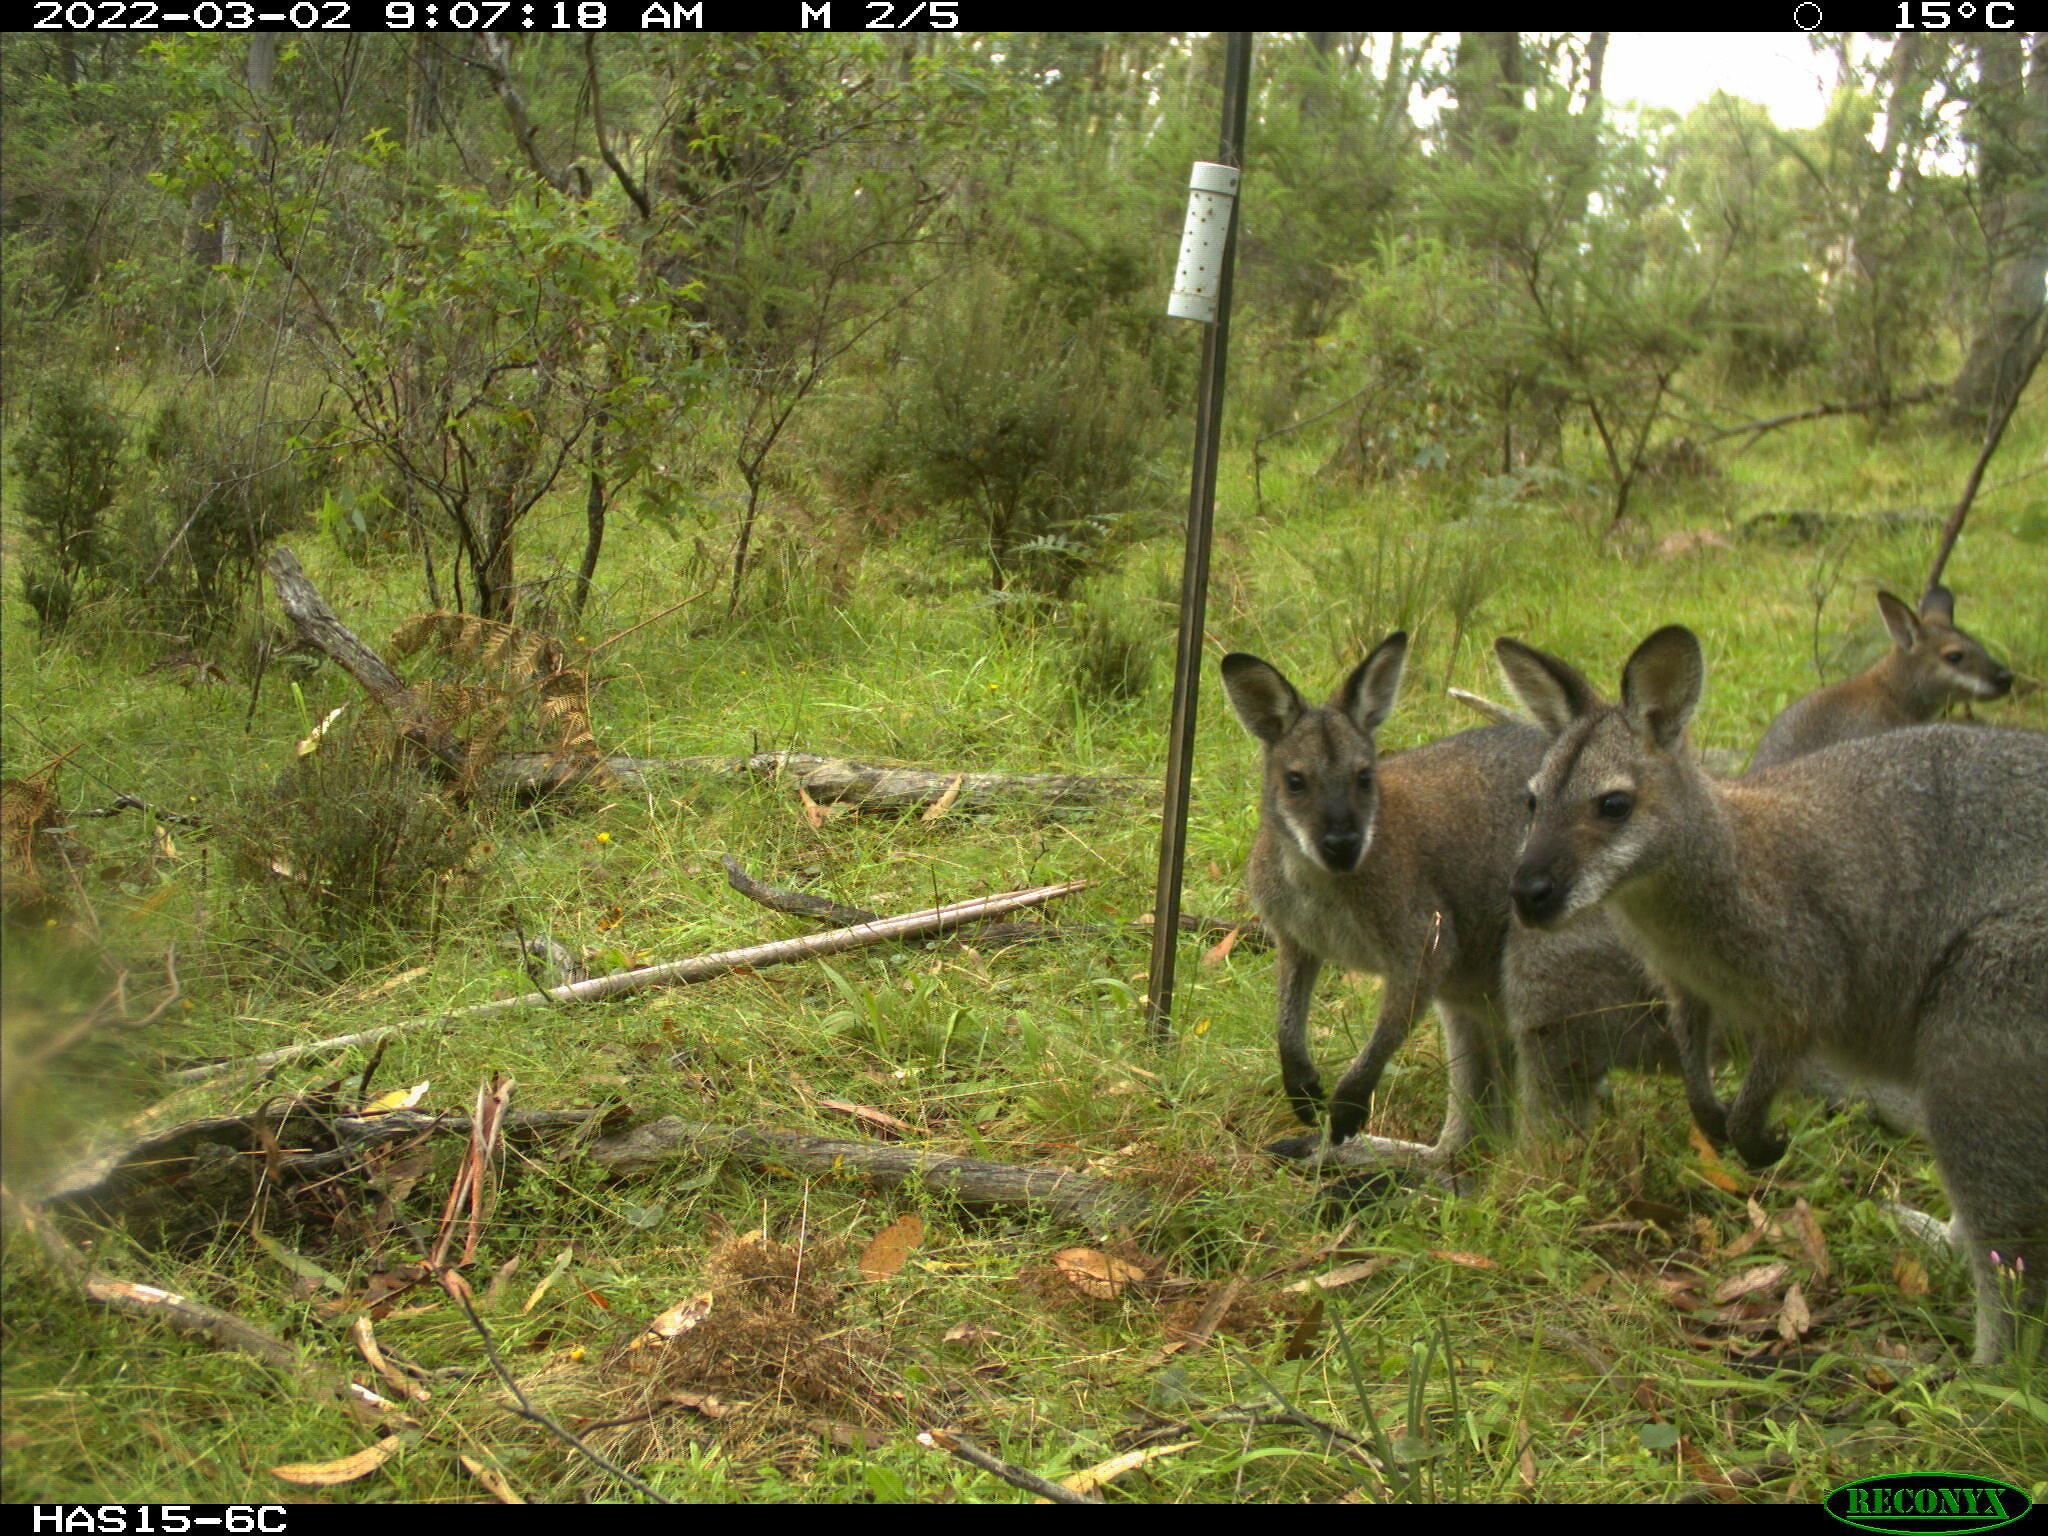Red-necked wallaby: (1490, 624, 2048, 1404), (1216, 628, 1556, 1187), (1737, 582, 2025, 807)
